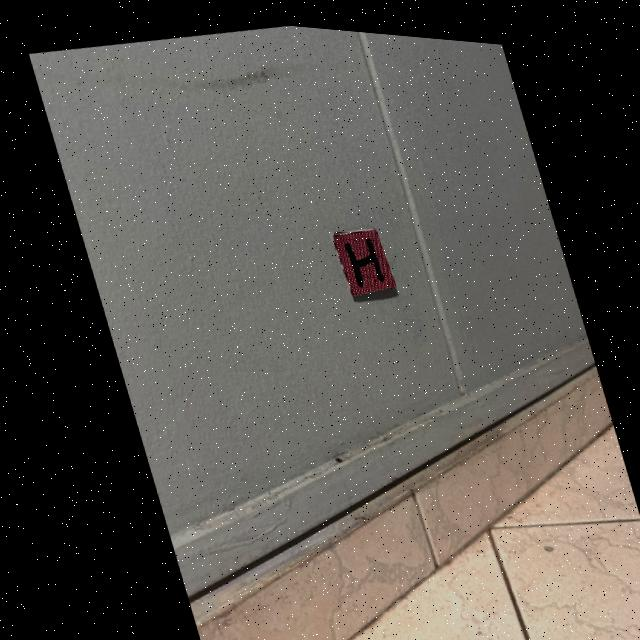H: (341, 233, 378, 280)
